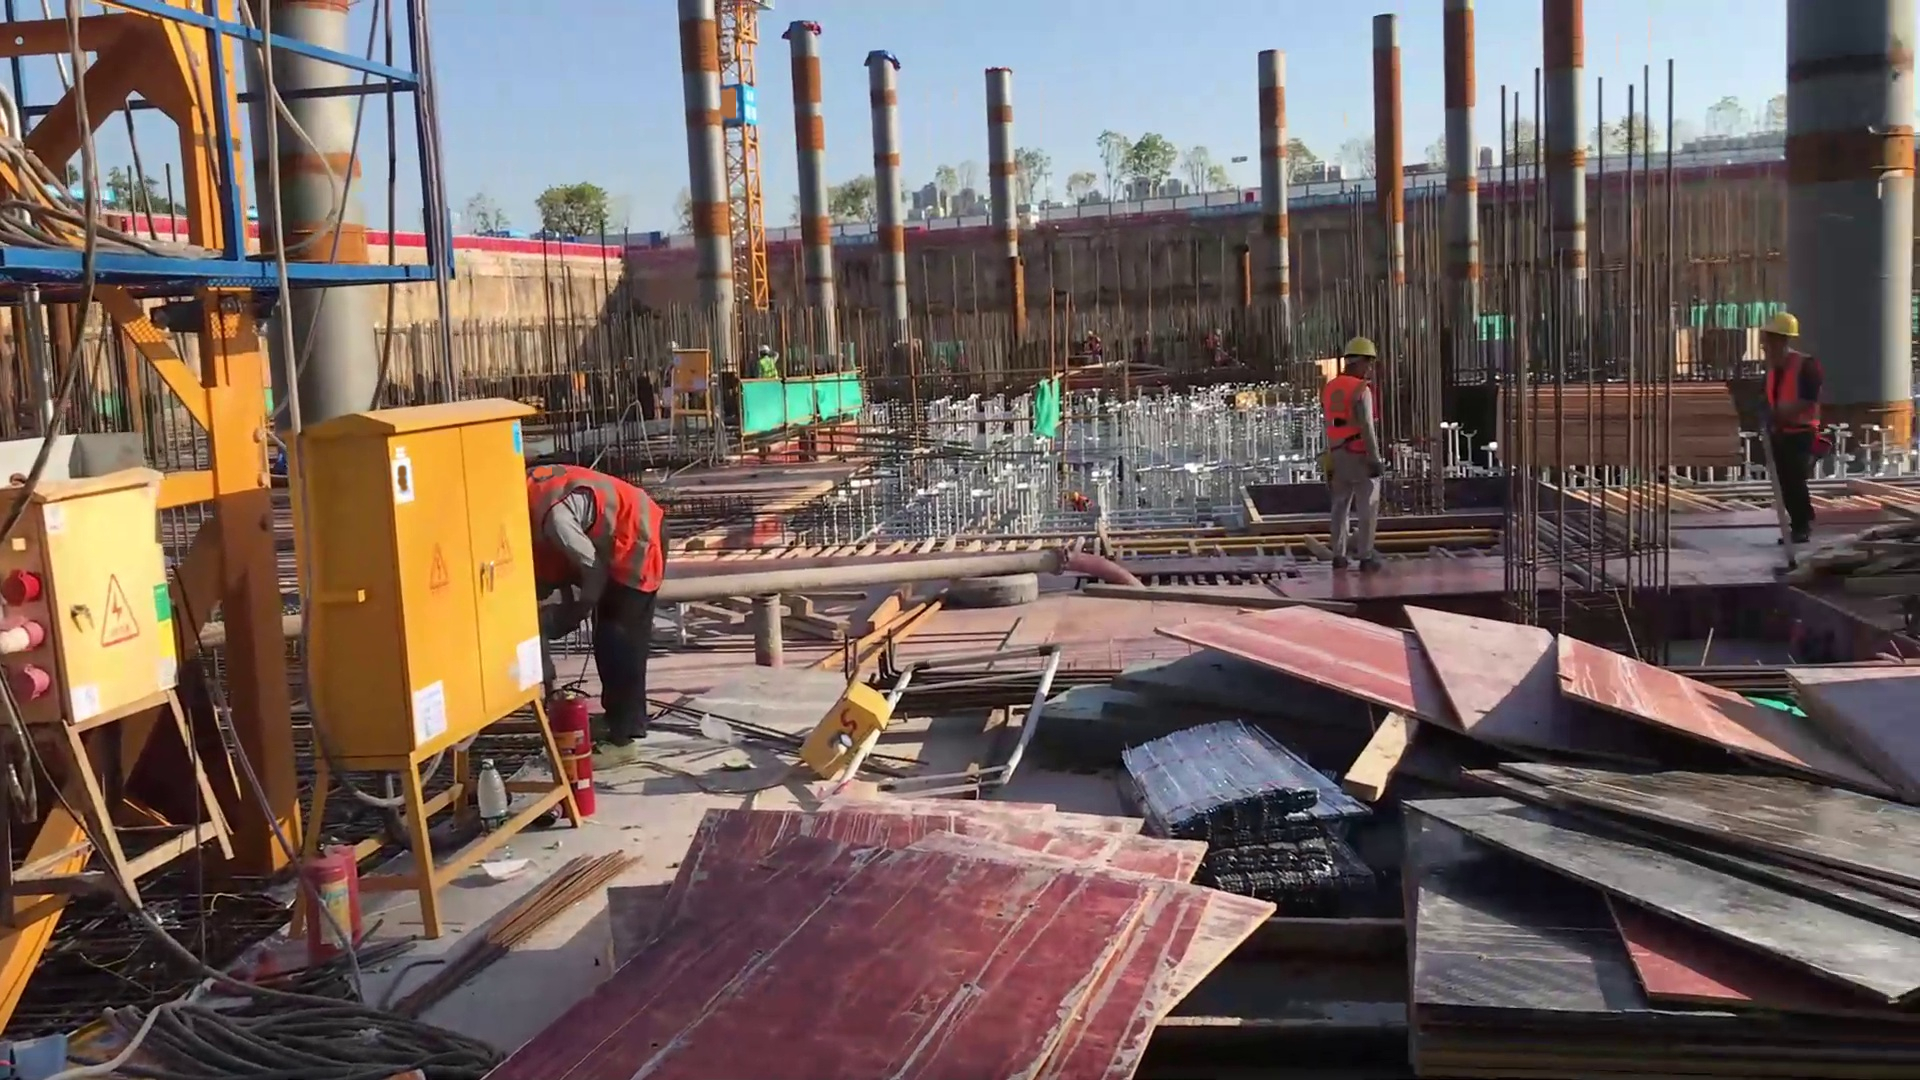helmet: (1760, 306, 1803, 340), (1343, 334, 1379, 362), (757, 340, 772, 355)
person: (519, 452, 678, 774), (1311, 319, 1401, 580), (1751, 301, 1834, 556), (756, 342, 782, 385)
vest: (527, 456, 668, 601), (1759, 348, 1825, 442), (1320, 374, 1371, 456), (758, 356, 779, 380)
